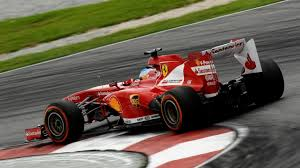FormulaOneCar: (23, 35, 286, 150)
